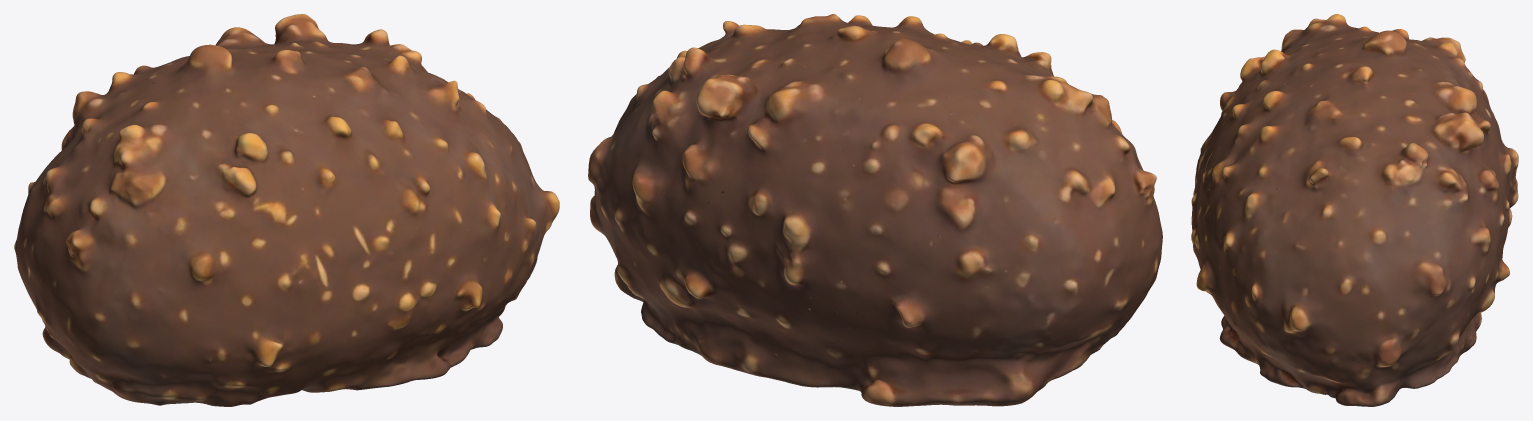
File: rocher-snickers.glb
3 views of the same model, side by side, from view 1: azimuth 30°, elevation 25°; view 2: azimuth 150°, elevation 25°; view 3: azimuth 270°, elevation 25° (orthographic). The views are drawn at different scales.
Size of the model in its own units: 2 by 1.19 by 1.35.
1 material, 1 textured.
